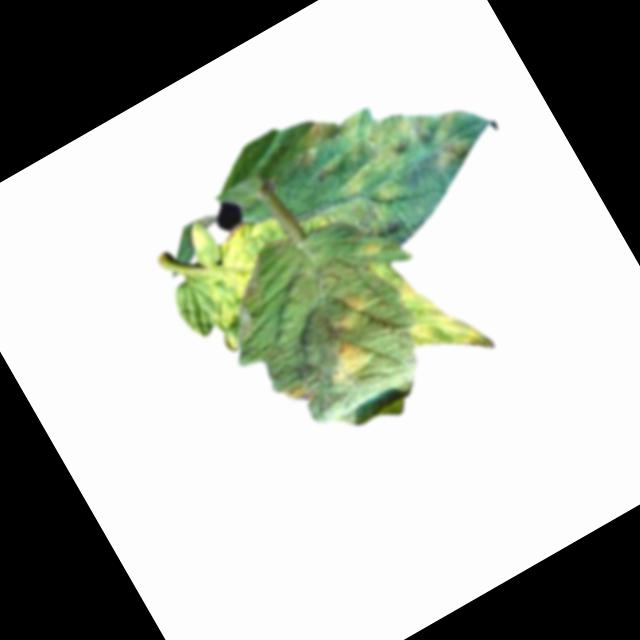Leaf_Mold: (266, 44, 509, 259), (173, 204, 324, 352), (364, 228, 495, 383), (314, 330, 381, 394), (318, 287, 374, 339), (280, 373, 320, 412)
